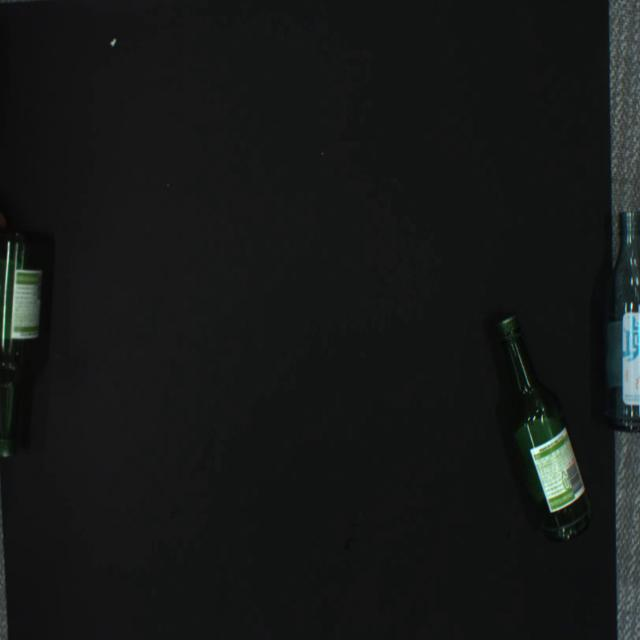soju-bottle: (496, 314, 592, 542), (1, 231, 44, 458), (603, 210, 639, 434)
